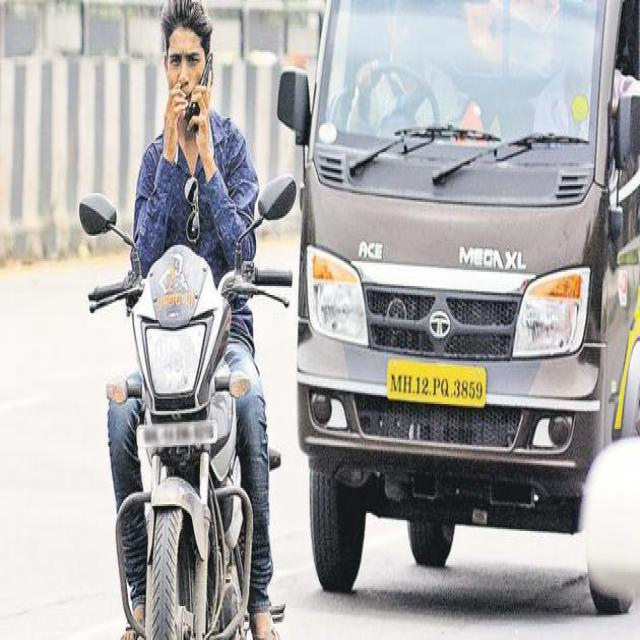Usage Of Phone While Riding: (128, 5, 260, 202)
